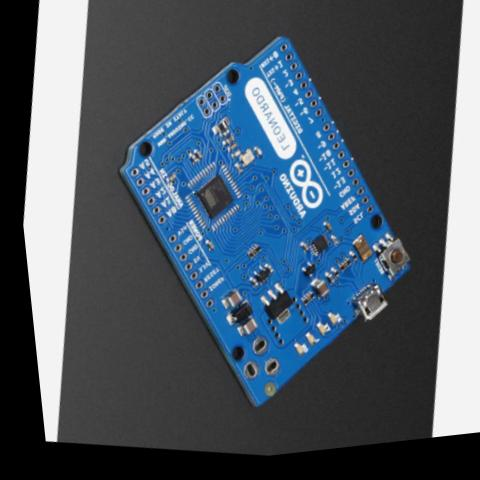Arduino-Leonardo: (59, 0, 456, 454)
